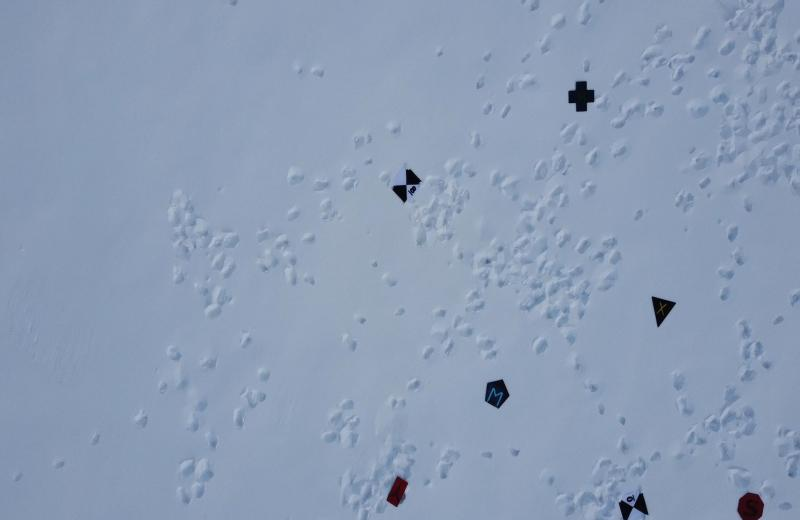Cross: (564, 78, 596, 114)
Octagon: (734, 485, 766, 520)
Pentagon: (481, 377, 513, 412)
Rectangle: (384, 474, 412, 509)
Triangle: (645, 290, 679, 332)
